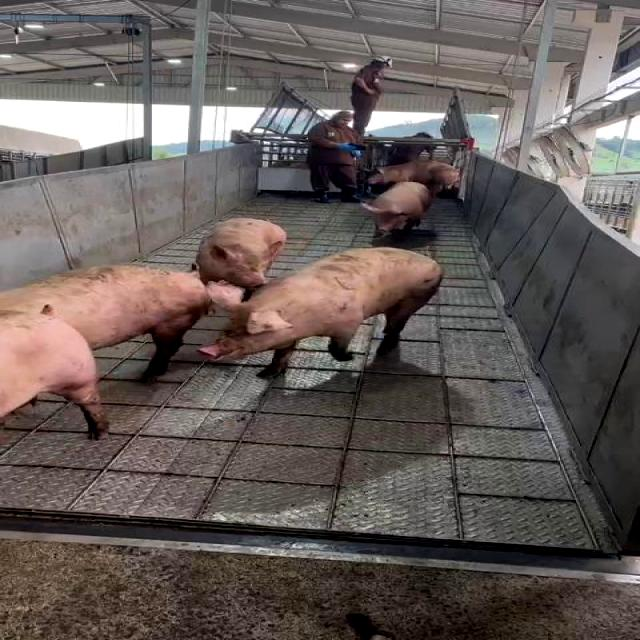pig: (199, 248, 442, 374), (0, 265, 211, 378), (0, 306, 110, 439), (195, 219, 286, 289), (362, 181, 431, 232)
